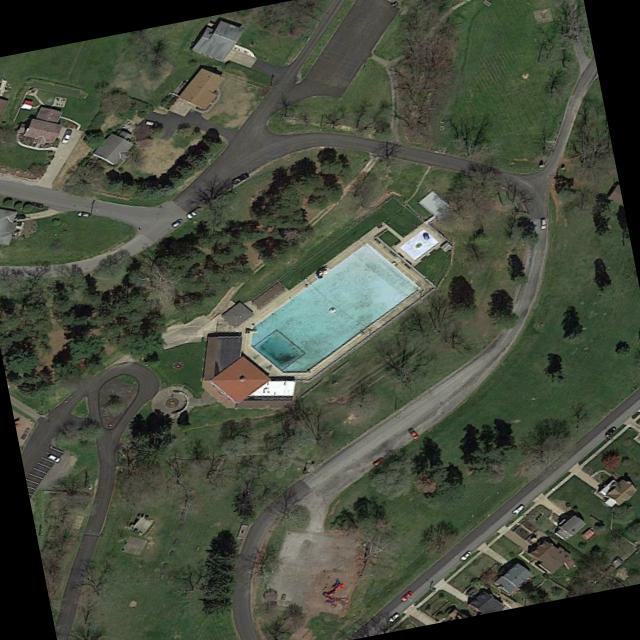small-vehicle: (230, 171, 249, 185), (185, 206, 202, 220), (59, 128, 72, 144), (406, 426, 419, 440), (398, 590, 413, 601), (458, 549, 471, 561), (46, 453, 61, 463), (603, 425, 615, 437), (169, 217, 182, 228), (512, 504, 524, 515), (386, 612, 398, 622), (372, 457, 384, 467), (142, 119, 158, 126), (75, 210, 89, 216), (540, 218, 545, 229)
